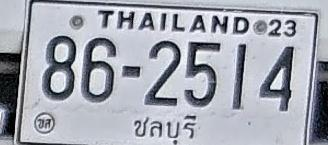1: (232, 44, 247, 110)
2: (145, 40, 181, 106)
4: (260, 45, 294, 111)
5: (184, 41, 221, 107)
6: (82, 37, 116, 102)
8: (42, 35, 76, 100)
CBI: (129, 110, 199, 145)
